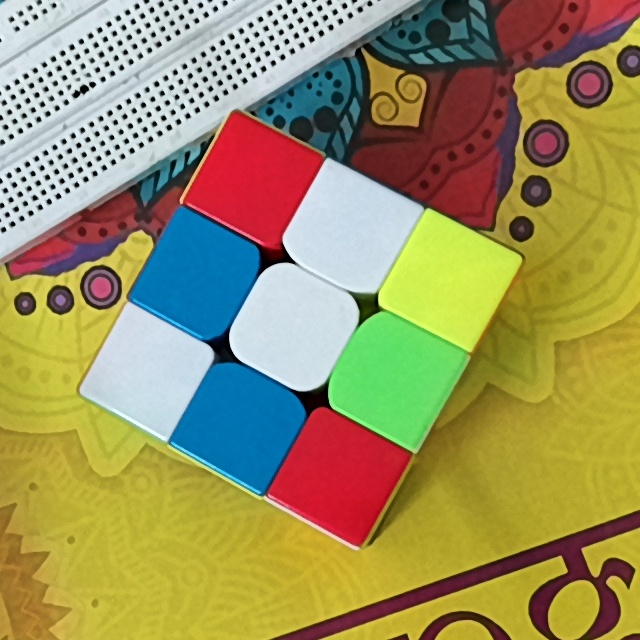tile: (356, 338, 437, 416), (414, 240, 494, 314), (302, 439, 379, 515), (253, 289, 334, 361), (310, 194, 389, 267), (200, 385, 279, 458), (214, 144, 294, 213), (110, 335, 185, 408), (161, 243, 235, 310)
